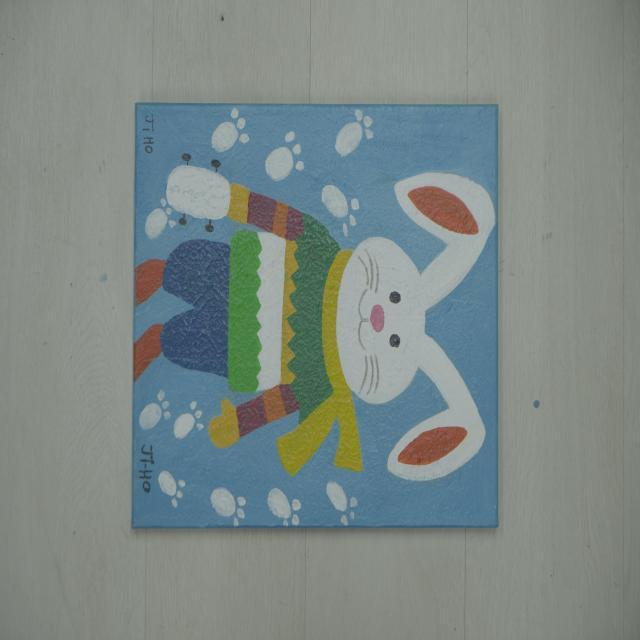painting: (132, 104, 497, 528)
